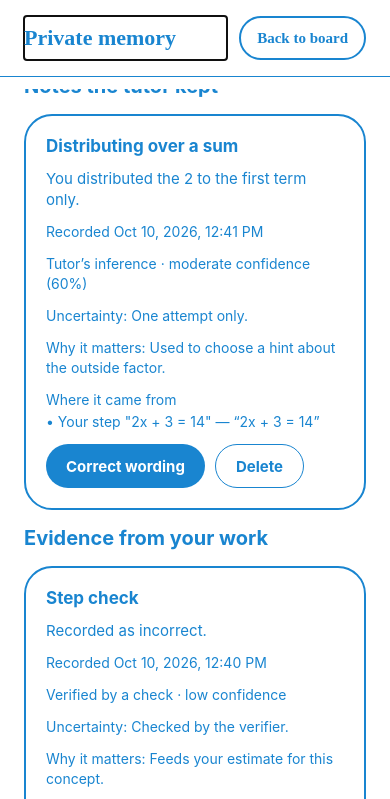
MemoryScreen › corrects a note in the learner’s own words and shows the distinguishable replacement
(page scrolled)
Click the button with aria-label "Correct wording: Distributing over a sum" at x=125, y=466, box [46,444,205,488]
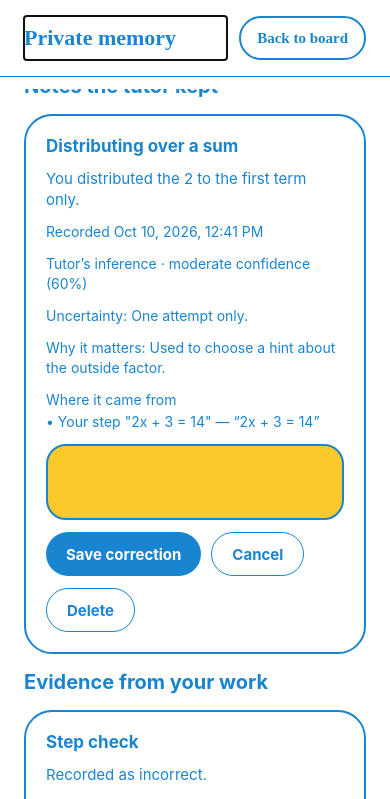
Type "I distributed to both terms." into the text box named "Your corrected wording" at x=195, y=482, box [46,444,344,520]
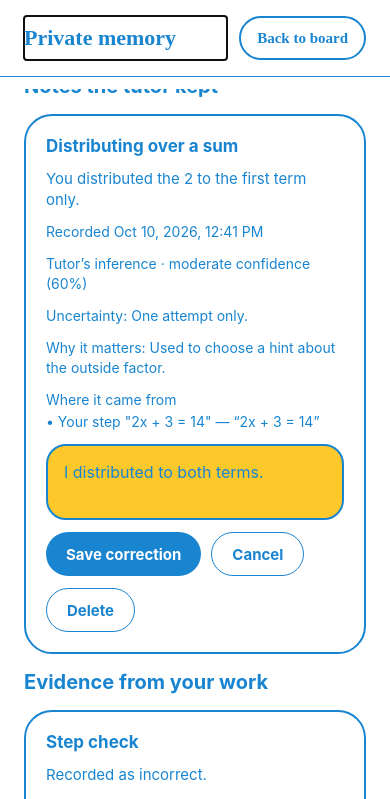
Click the button "Save correction" at x=124, y=554, box [46,532,201,576]
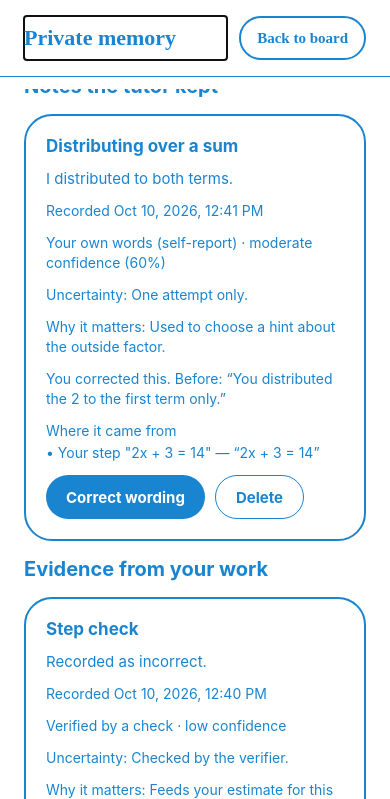
Check: the element with test id "memory-item-mem-2" shows "You corrected", box [46,370,233,387]
Check: the element with test id "memory-item-mem-2" shows "Before: “You distributed the 2 to the first term only.”", box [24,114,366,541]
